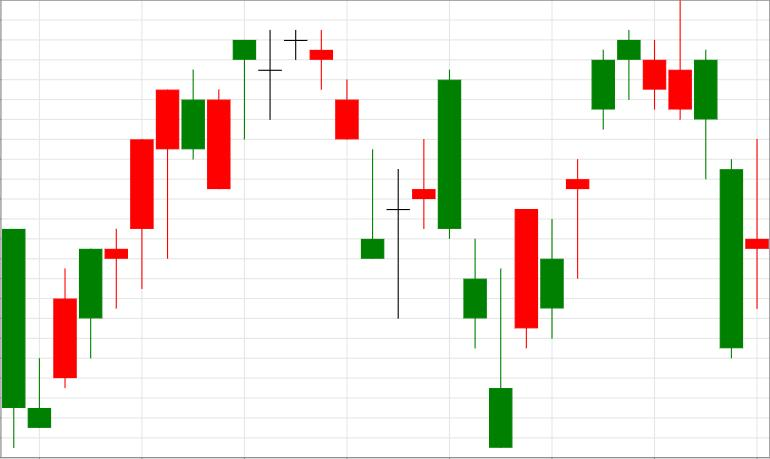evening_star_fall: (489, 29, 666, 448)
